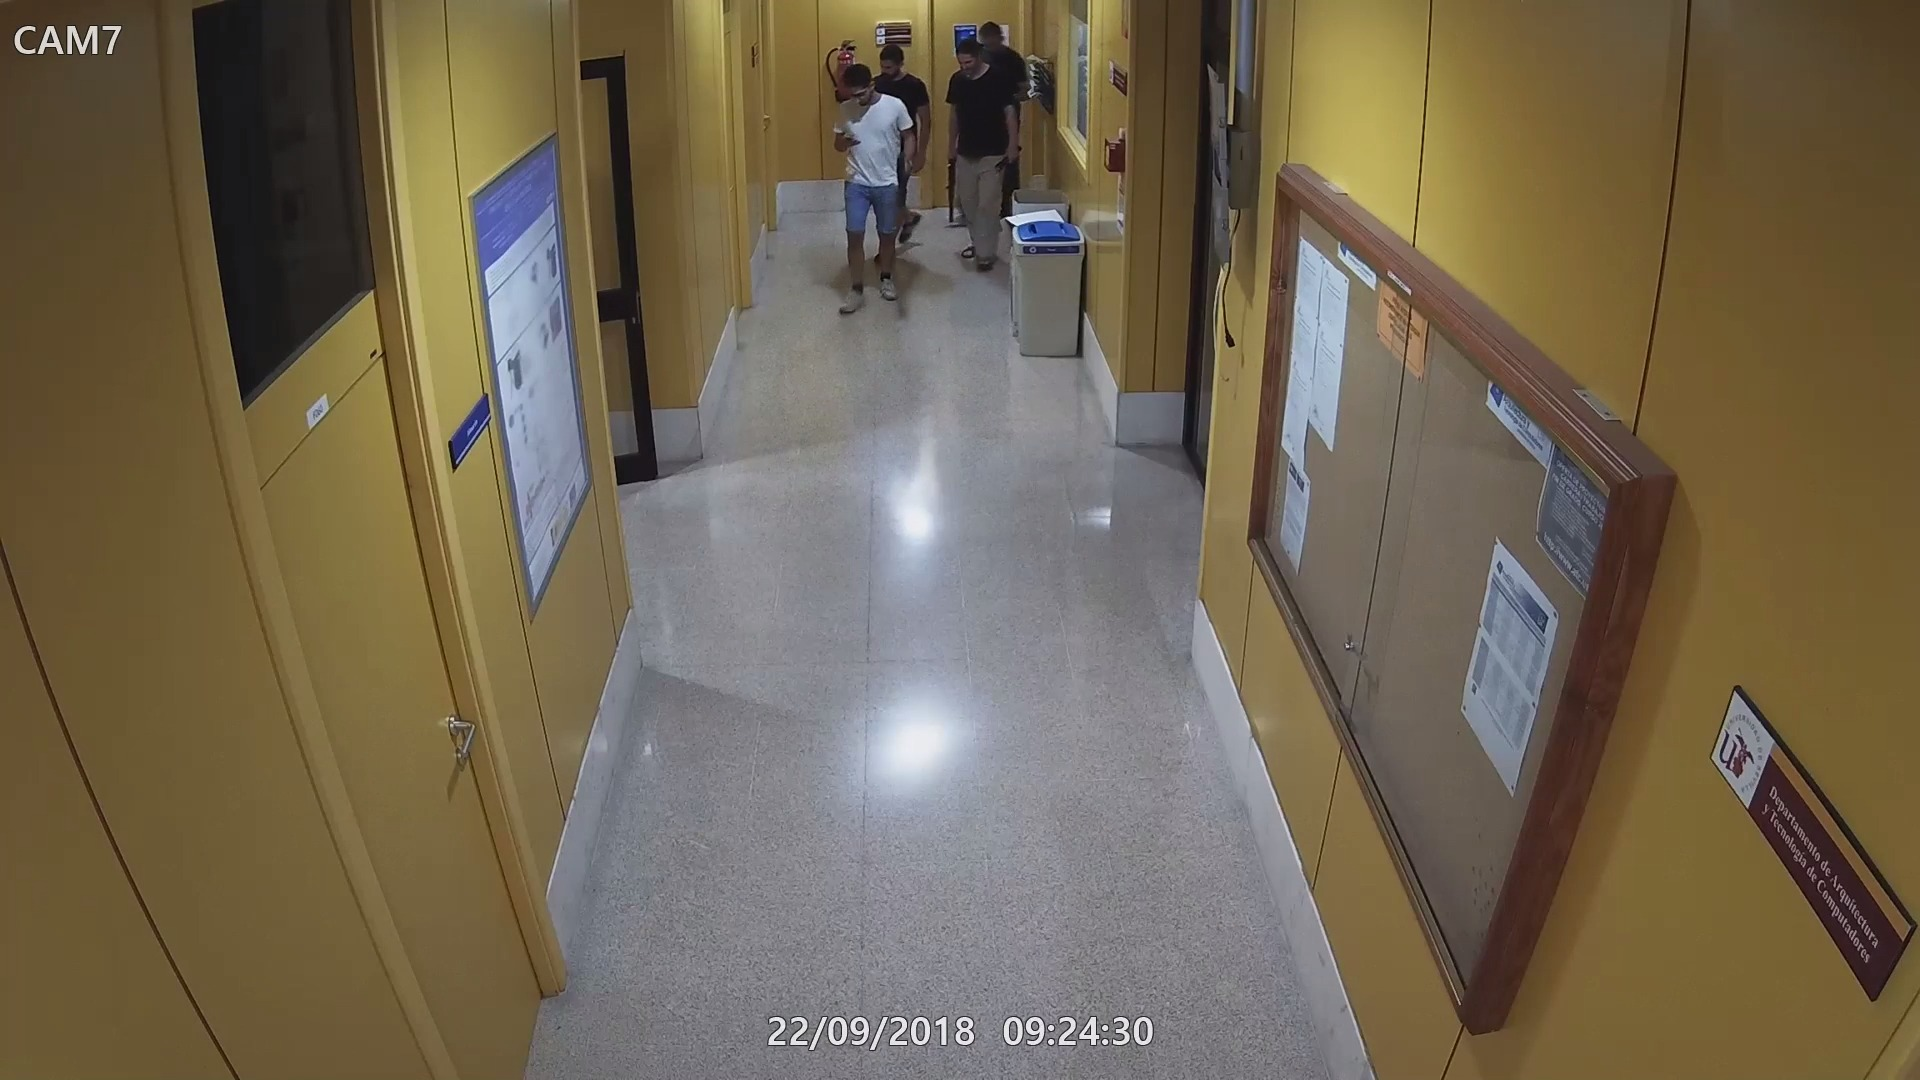Short_rifle: (938, 145, 965, 228), (891, 148, 918, 189)
